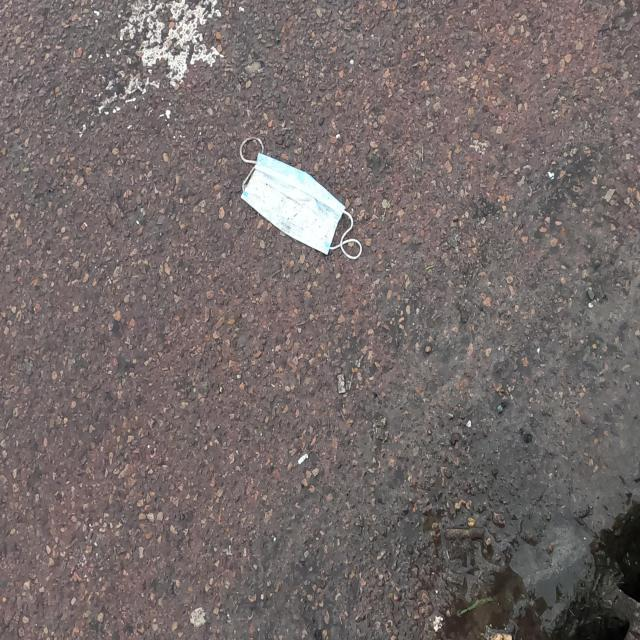Mask: (238, 134, 362, 262)
